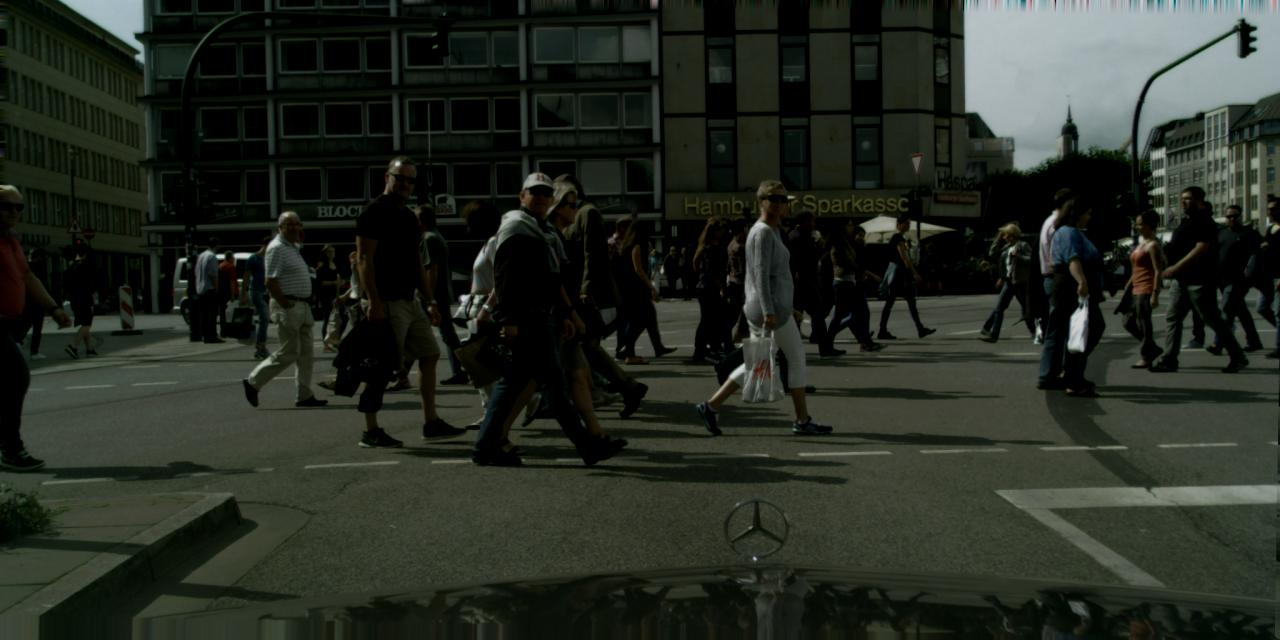ped: (482, 171, 602, 465), (346, 156, 464, 444), (502, 180, 614, 456), (714, 178, 818, 434), (530, 173, 628, 411), (446, 198, 540, 428), (0, 184, 66, 469), (526, 200, 612, 412), (530, 196, 616, 407), (1023, 188, 1105, 390), (728, 189, 810, 391), (1040, 196, 1120, 392), (244, 210, 324, 404), (1156, 183, 1233, 372), (388, 202, 462, 384), (1116, 209, 1178, 361), (709, 215, 770, 363), (1204, 204, 1264, 353), (1181, 200, 1241, 345), (686, 216, 746, 360), (776, 210, 834, 352), (603, 218, 661, 360), (588, 214, 645, 354), (818, 216, 874, 350), (688, 215, 743, 351), (752, 212, 804, 340), (240, 235, 291, 359), (880, 214, 931, 338), (827, 225, 876, 348), (1243, 197, 1279, 357), (989, 220, 1037, 338), (992, 222, 1040, 340), (786, 220, 834, 337), (620, 240, 668, 356), (59, 242, 106, 358), (814, 228, 860, 343), (9, 248, 54, 356), (310, 243, 354, 351), (190, 237, 233, 343), (339, 250, 379, 348), (212, 250, 246, 336), (1140, 225, 1164, 287), (896, 237, 919, 295), (661, 245, 684, 301), (920, 242, 941, 296), (675, 247, 696, 299), (644, 250, 664, 300), (95, 278, 108, 312), (114, 282, 125, 311), (1103, 259, 1113, 284), (156, 280, 166, 304), (131, 278, 137, 294)
